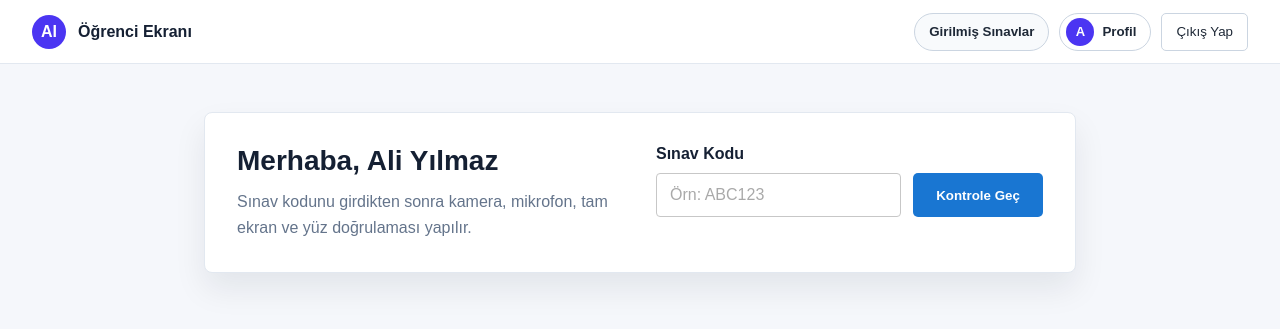
Scenario: StudentHome Page › boş sınav kodu ile submit edilirse hata mesajı göstermeli
The width and height of the screenshot is (1280, 329).
Click the button "Kontrole Geç" at (978, 195), box [913,173,1043,217]
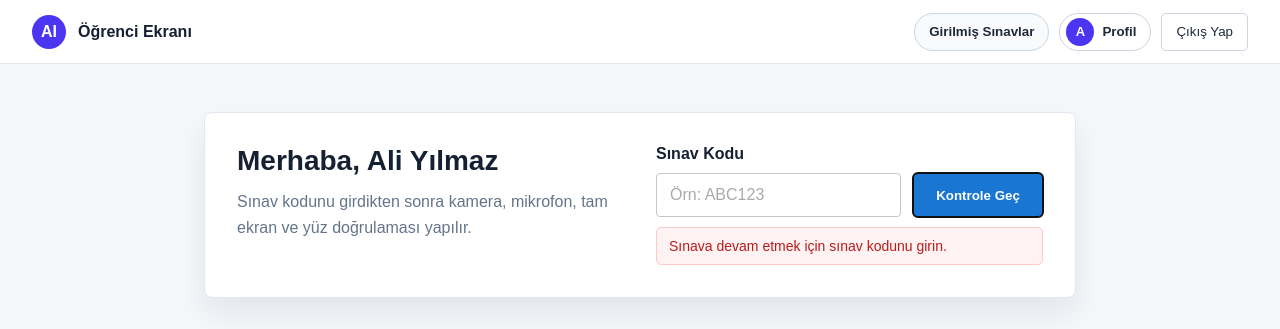
Result: the text "Sınava devam etmek için sınav kodunu girin." is shown at [656,227,1043,265]
